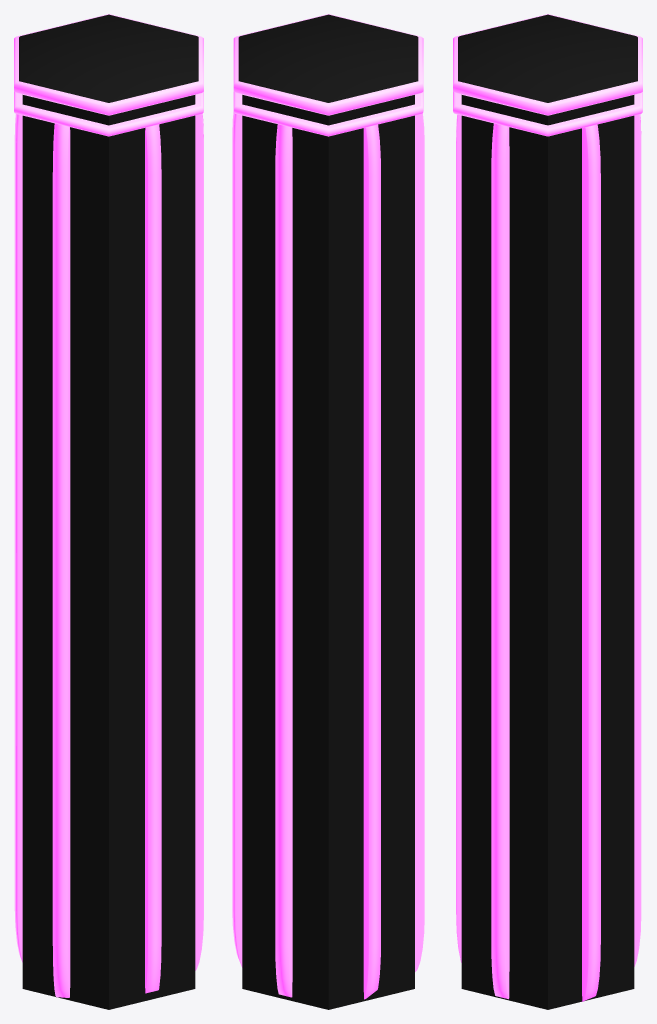
Rendered from Plateforme.fbx.
3 renders of one model, left to right at view 1: azimuth 30°, elevation 25°; view 2: azimuth 150°, elevation 25°; view 3: azimuth 270°, elevation 25°, orthographic.
Parts seen in each view (by area): view 1: Body_2, Cube_3, Cube_4, Top, Cube_5, Cube_2, Top_2, Glow; view 2: Body_2, Cube, Cube_2, Top, Cube_1, Cube_3, Top_2, Glow; view 3: Body_2, Cube_5, Cube_1, Top, Cube, Cube_4, Top_2, Glow.
Part boxes in pixels (bbox=[...]): Body_2: bbox=[22, 95, 195, 1009]; Cube_3: bbox=[52, 123, 70, 997]; Cube_4: bbox=[145, 124, 161, 993]; Top: bbox=[19, 14, 198, 102]; Cube_5: bbox=[195, 114, 203, 970]; Cube_2: bbox=[14, 114, 22, 962]; Top_2: bbox=[14, 14, 203, 115]; Glow: bbox=[14, 91, 203, 136]; Body_2: bbox=[242, 95, 414, 1009]; Cube: bbox=[275, 124, 292, 997]; Cube_2: bbox=[363, 124, 380, 999]; Top: bbox=[238, 14, 418, 102]; Cube_1: bbox=[232, 112, 242, 967]; Cube_3: bbox=[415, 113, 424, 971]; Top_2: bbox=[233, 14, 423, 115]; Glow: bbox=[233, 91, 423, 136]; Body_2: bbox=[461, 95, 634, 1009]; Cube_5: bbox=[491, 123, 509, 999]; Cube_1: bbox=[581, 124, 600, 1001]; Top: bbox=[458, 14, 637, 102]; Cube: bbox=[634, 114, 641, 966]; Cube_4: bbox=[456, 114, 461, 962]; Top_2: bbox=[453, 14, 642, 115]; Glow: bbox=[453, 91, 642, 136].
Bounding box in the file's own units: 44 × 202 × 38.11.
